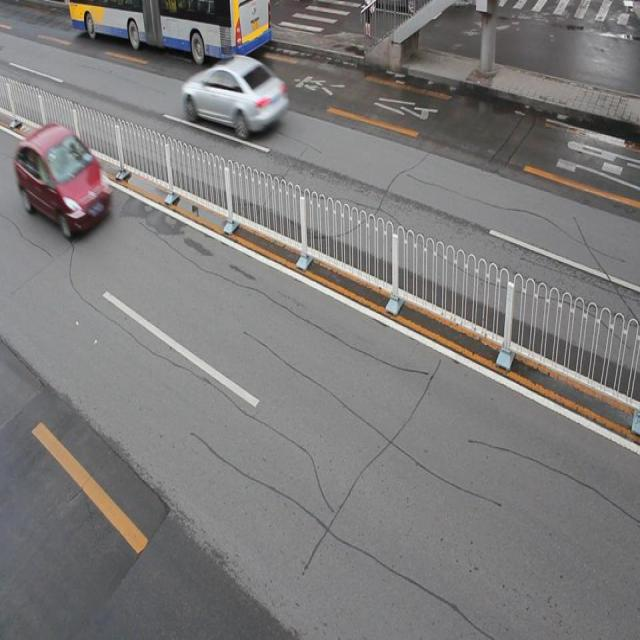car: (17, 122, 110, 236), (182, 55, 289, 137)
van: (71, 1, 272, 70)
